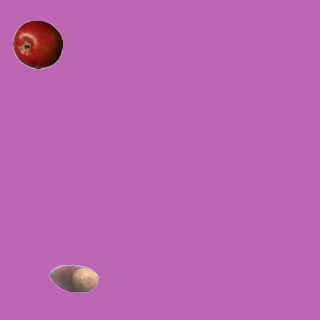Apple Braeburn: (12, 19, 62, 69)
Hazelnut: (48, 253, 98, 303)
